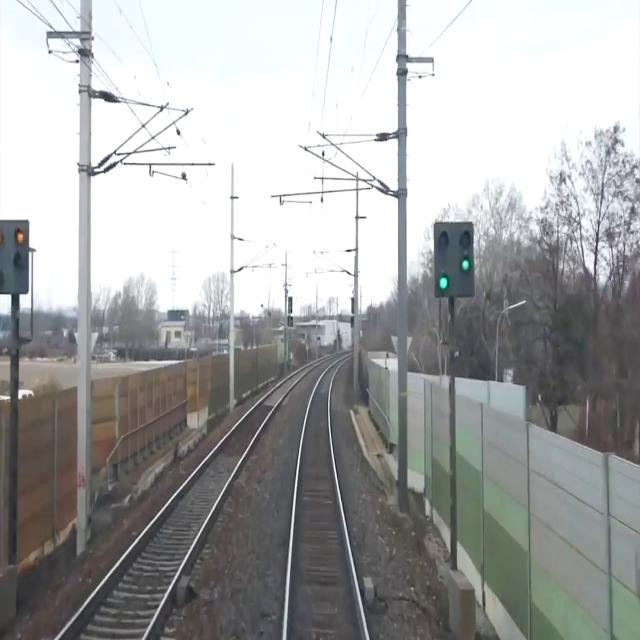rail-track: (60, 375, 298, 639), (287, 365, 364, 639)
